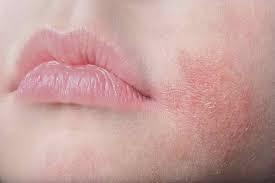Dry-Skin: (130, 124, 204, 183)
